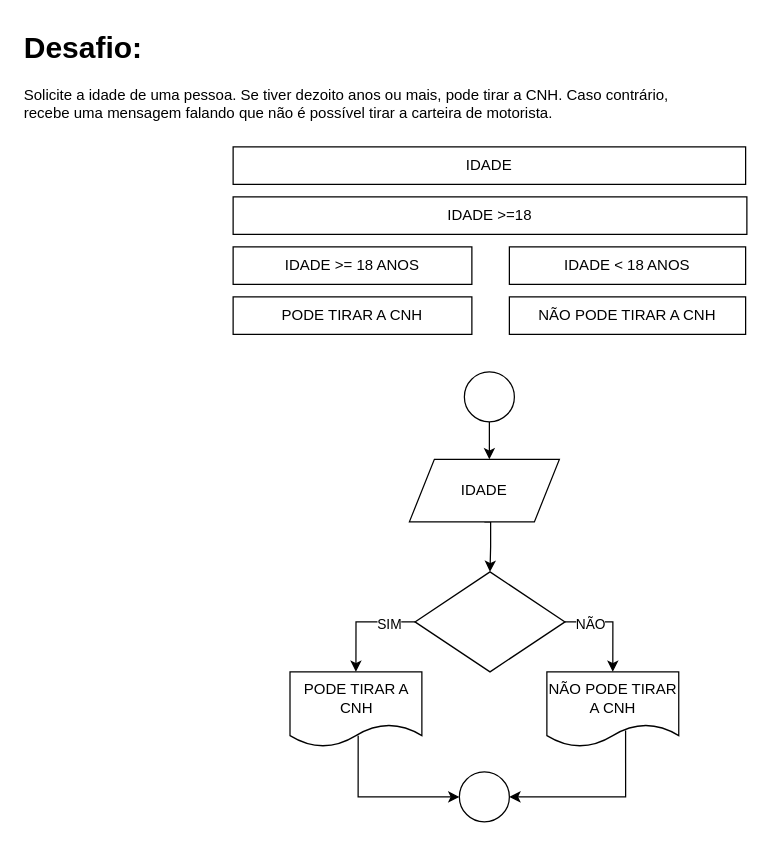
This 769x844 diagram has some shape labels left out. The shapes that lost their labels are listed below. From the top down, each one's box as (x1, y1, x2, y2) in pixels, then its label:
(463, 371, 514, 422): INÍCIO
(414, 571, 565, 672): IDADE >= 18
(458, 771, 509, 822): FIM
